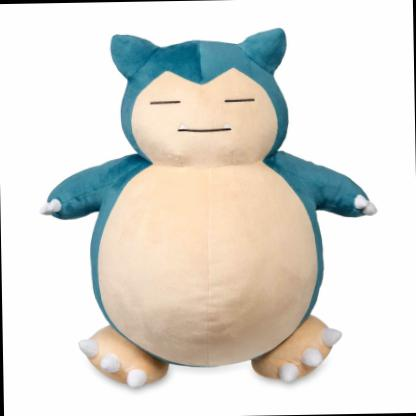Snorlax: (1, 1, 416, 412)
